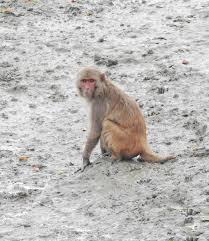monkey: (50, 41, 155, 208)
